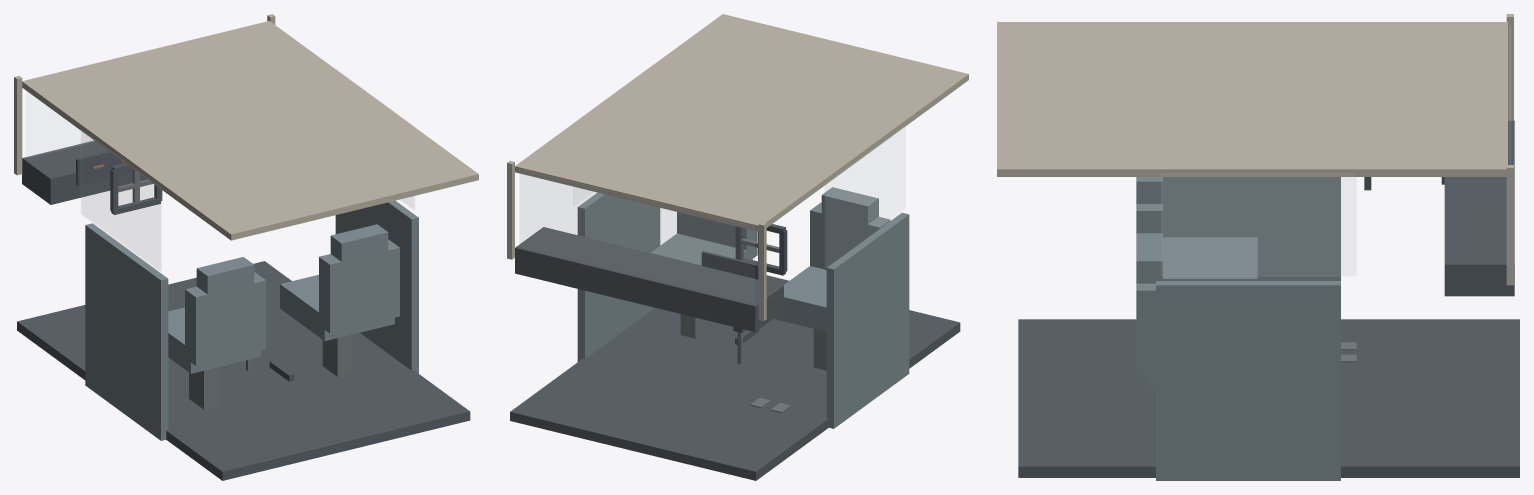
The model's file is van_cabin.glb.
3 renders of one model, left to right at view 1: azimuth 30°, elevation 25°; view 2: azimuth 150°, elevation 25°; view 3: azimuth 270°, elevation 25°, orthographic. The views are drawn at different scales.
Parts seen in each view (by area): view 1: body, glass_side_left, glass_windshield, steering_wheel; view 2: body, glass_windshield, glass_side_left, steering_wheel; view 3: body, glass_side_right.
Boxes of the visible parts, bbox=[...] form: body: bbox=[14, 14, 478, 480]; glass_side_left: bbox=[81, 130, 161, 271]; glass_windshield: bbox=[27, 92, 80, 157]; steering_wheel: bbox=[110, 163, 162, 214]; body: bbox=[507, 14, 968, 480]; glass_windshield: bbox=[520, 169, 753, 303]; glass_side_left: bbox=[825, 126, 904, 266]; steering_wheel: bbox=[735, 224, 787, 275]; body: bbox=[997, 14, 1519, 480]; glass_side_right: bbox=[1161, 174, 1355, 275].
Bounding box in the file's own units: 1.77 × 1.68 × 2.54.
